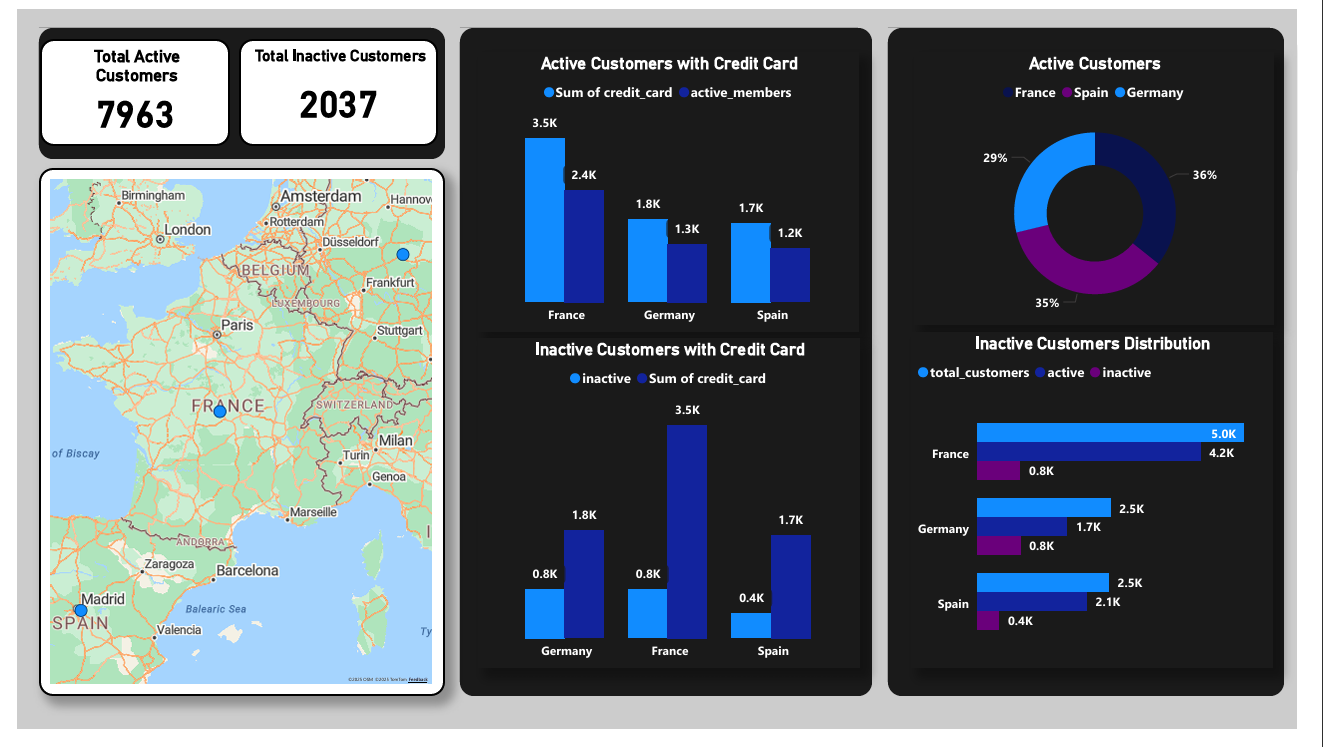

The page's visual inventory and layout, read from the dashboard file:
{"tool":"powerbi","page":{"name":"Page 2","canvas":[1280,720],"ordinal":1},"visuals":[{"type":"shape","box":[869.6,18,396.9,668.1],"z":0},{"type":"shape","box":[20.9,18,405.9,130.6],"z":1000},{"type":"shape","box":[441.8,18,411.9,668.1],"z":2000},{"type":"lineClusteredColumnComboChart","title":"Active Customers with Credit Card","fields":{"Category":["Bank Customer Churn Prediction.country"],"Y":["Sum(Bank Customer Churn Prediction.credit_card)","Bank Customer Churn Prediction.active_members"]},"box":[460.9,42.9,381,280.3],"z":2000,"group":"g1"},{"type":"card","title":"Total Active Customers","fields":{"Values":["Bank Customer Churn Prediction.active"]},"box":[22,29,190.5,106.7],"z":3000,"group":"g2"},{"type":"donutChart","title":"Active Customers","fields":{"Category":["Bank Customer Churn Prediction.country"],"Y":["Bank Customer Churn Prediction.%active"]},"box":[896.1,42.9,360.4,273.3],"z":3000,"group":"g3"},{"type":"azureMap","fields":{"Category":["Bank Customer Churn Prediction.country"]},"box":[20.9,157.6,405.9,528.5],"z":3000},{"type":"card","title":"Total Inactive Customers","fields":{"Values":["Bank Customer Churn Prediction.inactive"]},"box":[221.4,29,198.4,106.7],"z":4000,"group":"g2"},{"type":"group","id":"g1","title":"Group 1","box":[460.9,42.9,382,616.4],"z":4000},{"type":"clusteredBarChart","title":"Inactive Customers Distribution","fields":{"Category":["Bank Customer Churn Prediction.country"],"Y":["Bank Customer Churn Prediction.total_customers","Bank Customer Churn Prediction.active","Bank Customer Churn Prediction.inactive"]},"box":[893.5,323.1,362.5,336.1],"z":4000,"group":"g3"},{"type":"group","id":"g2","title":"Group 2","box":[22,29,397.9,106.7],"z":5000},{"type":"group","id":"g3","title":"Group 3","box":[893.5,42.9,363,616.3],"z":6000},{"type":"lineClusteredColumnComboChart","title":"Inactive Customers with Credit Card","fields":{"Category":["Bank Customer Churn Prediction.country"],"Y":["Bank Customer Churn Prediction.inactive","Sum(Bank Customer Churn Prediction.credit_card)"]},"box":[461,329.2,381.9,330.1],"z":7000,"group":"g1"}]}

Visuals, with their boxes in screenshot pixels (x1, y1, x2, y2), scaled from the page's 1280x720 canvas onto the 1323x747 screenshot:
shape: bbox=(899, 19, 1309, 712)
shape: bbox=(22, 19, 441, 154)
shape: bbox=(457, 19, 882, 712)
"Active Customers with Credit Card" lineClusteredColumnComboChart: bbox=(476, 45, 870, 335)
"Total Active Customers" card: bbox=(23, 30, 220, 141)
"Active Customers" donutChart: bbox=(926, 45, 1299, 328)
azureMap - Bank Customer Churn Prediction.country: bbox=(22, 164, 441, 712)
"Total Inactive Customers" card: bbox=(229, 30, 434, 141)
"Group 1" group: bbox=(476, 45, 871, 684)
"Inactive Customers Distribution" clusteredBarChart: bbox=(924, 335, 1298, 684)
"Group 2" group: bbox=(23, 30, 434, 141)
"Group 3" group: bbox=(924, 45, 1299, 684)
"Inactive Customers with Credit Card" lineClusteredColumnComboChart: bbox=(476, 342, 871, 684)
